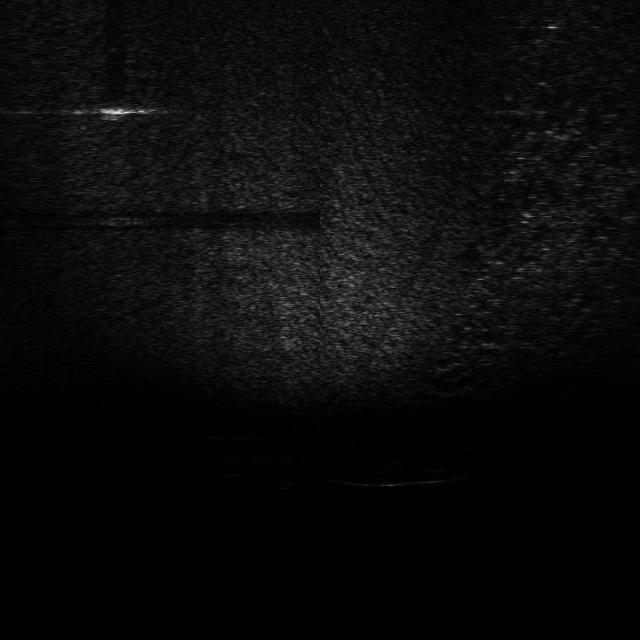cube: (93, 97, 132, 123)
